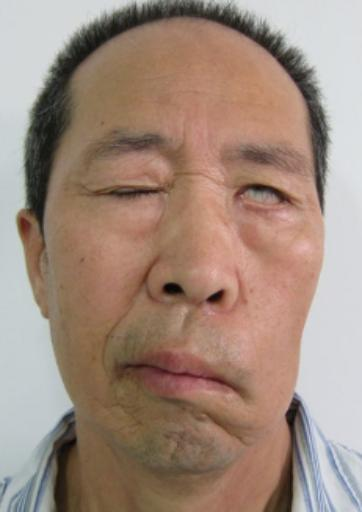left_eye: (235, 183, 296, 215)
left_lip_corner: (215, 365, 245, 403)
right_eye: (93, 182, 164, 209)
right_lip_corner: (118, 353, 150, 380)
